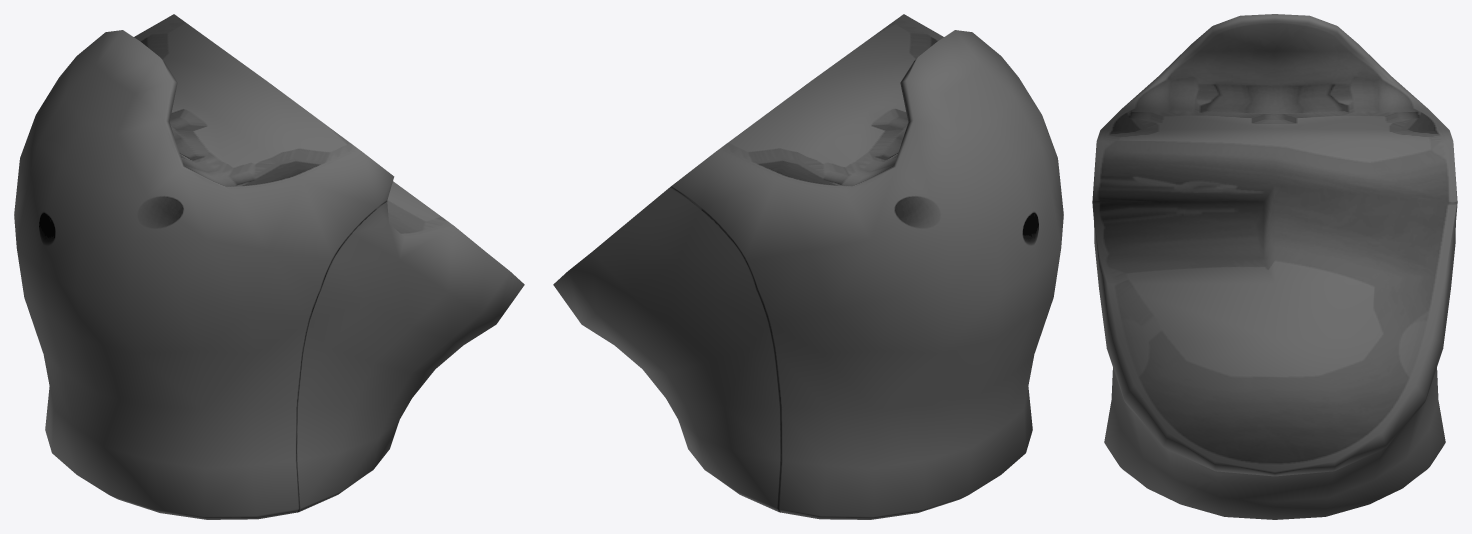
Rendered from head_1.dae.
3 views of the same model, side by side, from view 1: azimuth 30°, elevation 25°; view 2: azimuth 150°, elevation 25°; view 3: azimuth 270°, elevation 25° (orthographic). The views are drawn at different scales.
Visible parts, largest first — view 1: default; view 2: default; view 3: default.
Boxes of the visible parts, x1,y1,x2,y2 form: default: (14, 14, 524, 519); default: (553, 14, 1063, 519); default: (1092, 14, 1457, 519).
Bounding box in the file's own units: 0.1673 × 0.1229 × 0.1491.
Materials: 1 (1 with a texture image).
